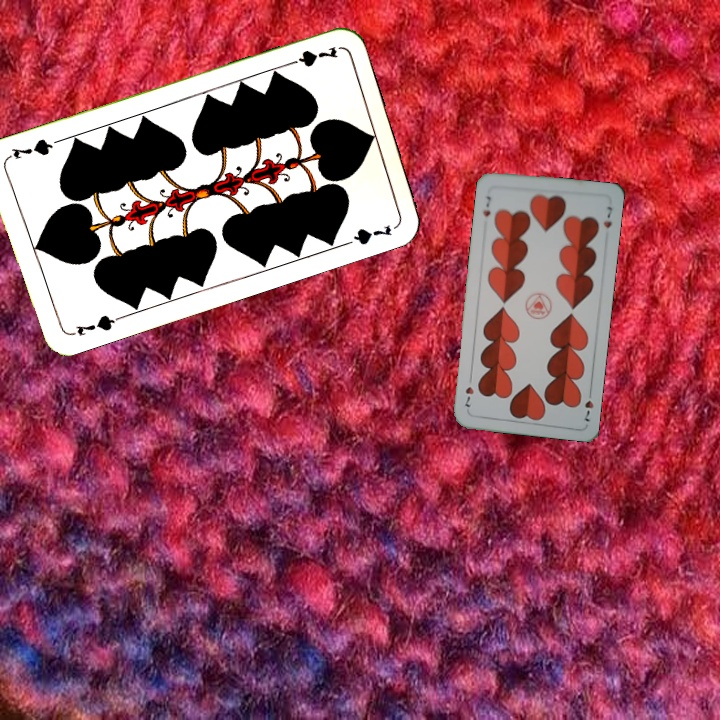G7: (281, 42, 340, 70), (65, 311, 123, 339)
H7: (580, 385, 596, 424), (479, 192, 494, 219)
